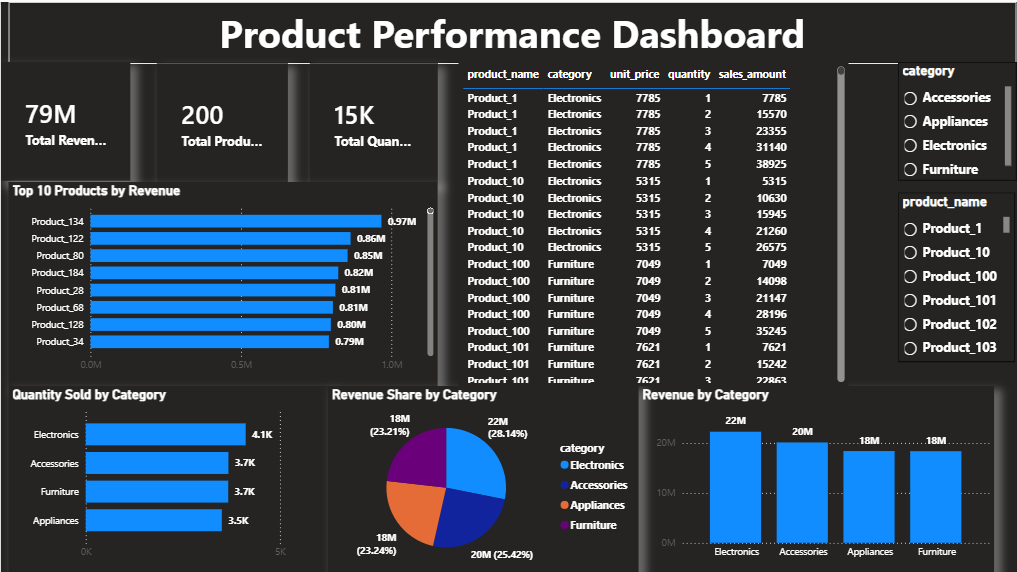

What the dashboard file says about the page in this screenshot:
{"tool":"powerbi","page":{"name":"Product Performance","canvas":[1280,720],"ordinal":1},"visuals":[{"type":"textbox","box":[9.4,0,1269.9,77.5],"z":0},{"type":"cardVisual","fields":{"Data":["customers.Total Revenue"]},"box":[0,75.6,162.5,149.3],"z":1000},{"type":"cardVisual","fields":{"Data":["customers.Total Products"]},"box":[196.5,77.5,164.4,149.3],"z":2000},{"type":"cardVisual","fields":{"Data":["customers.Total Quantity"]},"box":[389.3,77.5,160.6,149.3],"z":3000},{"type":"clusteredBarChart","title":"Top 10 Products by Revenue","fields":{"Category":["products.product_name"],"Y":["customers.Total Revenue"]},"box":[9.4,226.8,540.5,257],"z":4000},{"type":"clusteredColumnChart","title":"Revenue by Category","fields":{"Category":["products.category"],"Y":["customers.Total Revenue"]},"box":[803.2,483.8,447.9,236.2],"z":5000},{"type":"clusteredBarChart","title":"Quantity Sold by Category","fields":{"Category":["products.category"],"Y":["customers.Total Quantity"]},"box":[9.4,483.8,402.5,236.2],"z":6000},{"type":"pieChart","title":"Revenue Share by Category","fields":{"Category":["products.category"],"Y":["customers.Total Revenue"]},"box":[412,483.8,391.2,236.2],"z":7000},{"type":"listSlicer","fields":{"Values":["products.category"]},"box":[1130.1,75.6,149.3,149.3],"z":8000},{"type":"listSlicer","fields":{"Values":["products.product_name"]},"box":[1130.1,240,147.4,213.5],"z":9000},{"type":"tableEx","fields":{"Values":["products.product_name","products.category","products.unit_price","orders.quantity","orders.sales_amount"]},"box":[576.4,75.6,491.3,408.2],"z":10000}]}

Visuals, with their boxes in screenshot pixels (x1, y1, x2, y2), scaled from the page's 1280x720 canvas onto the 1017x572 screenshot:
textbox: 7:0:1016:62
cardVisual - customers.Total Revenue: 0:60:129:179
cardVisual - customers.Total Products: 156:62:287:180
cardVisual - customers.Total Quantity: 309:62:437:180
"Top 10 Products by Revenue" clusteredBarChart: 7:180:437:384
"Revenue by Category" clusteredColumnChart: 638:384:994:571
"Quantity Sold by Category" clusteredBarChart: 7:384:327:571
"Revenue Share by Category" pieChart: 327:384:638:571
listSlicer - products.category: 898:60:1016:179
listSlicer - products.product_name: 898:191:1015:360
tableEx - products.product_name x products.category: 458:60:848:384
